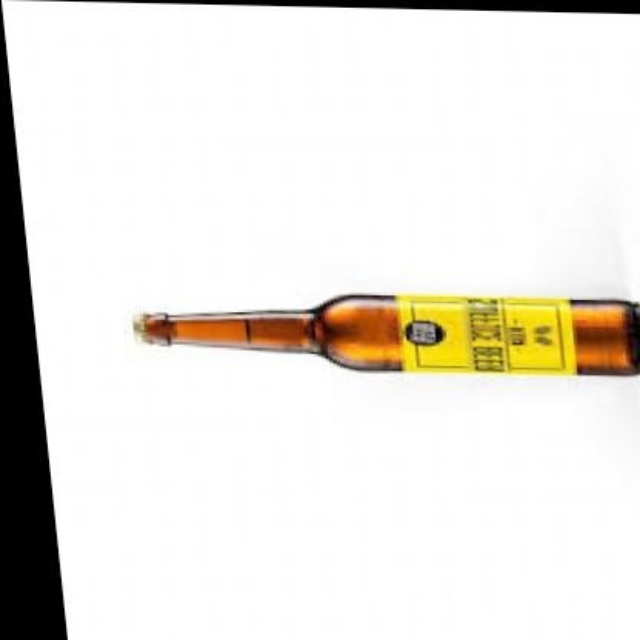trash: (134, 295, 638, 374)
